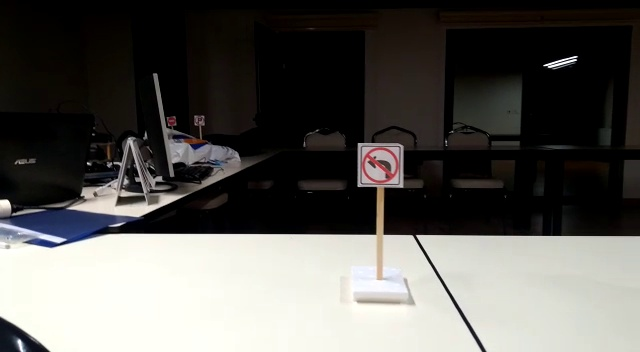sola_donulmez: (360, 144, 401, 185)
